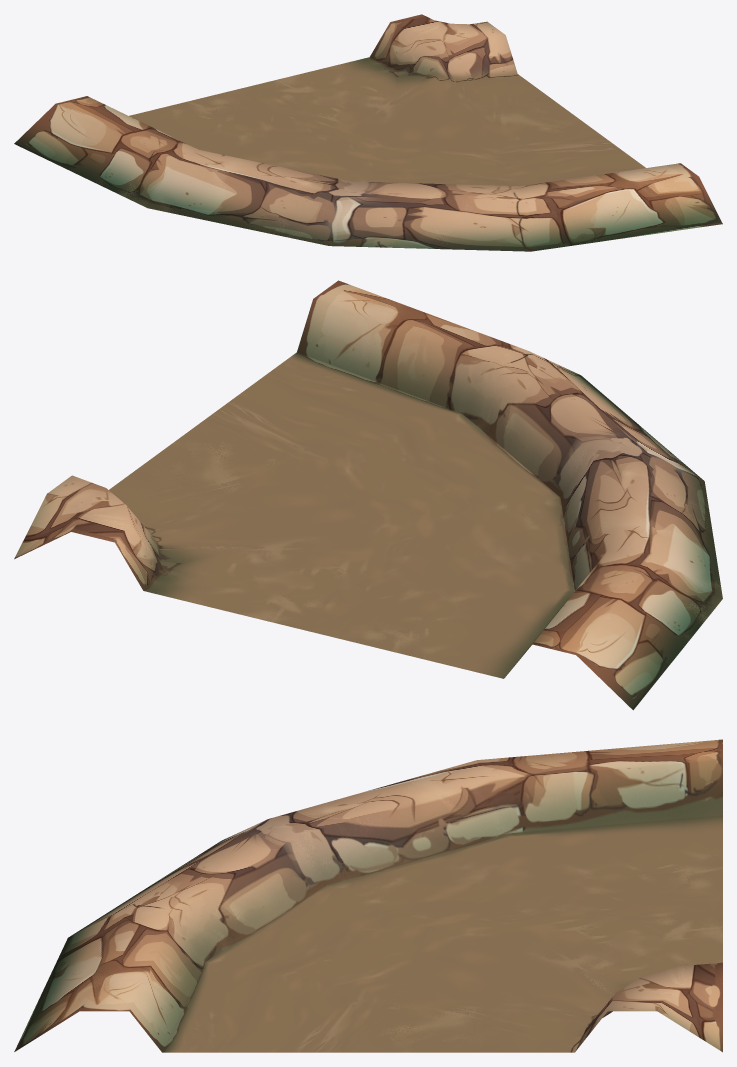
The model's file is m_StreetTile_turn_right_back.fbx.
The picture shows the model from 3 angles, top to bottom: view 1: azimuth 30°, elevation 25°; view 2: azimuth 150°, elevation 25°; view 3: azimuth 270°, elevation 25°; orthographic projection. The views are drawn at different scales.
Parts seen in each view (by area): view 1: turn_right_back; view 2: turn_right_back; view 3: turn_right_back.
Boxes of the visible parts, <box> form: turn_right_back: <box>14,14,722,251</box>; turn_right_back: <box>14,280,722,710</box>; turn_right_back: <box>14,739,722,1052</box>.
Bounding box in the file's own units: 800 × 51.12 × 800.
